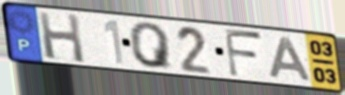1: (103, 19, 125, 66)
2: (175, 25, 215, 76)
A: (267, 35, 314, 83)
F: (222, 27, 265, 79)
H: (36, 10, 88, 65)
Q: (127, 21, 176, 71)
